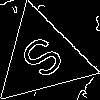S: (17, 33, 74, 89)
